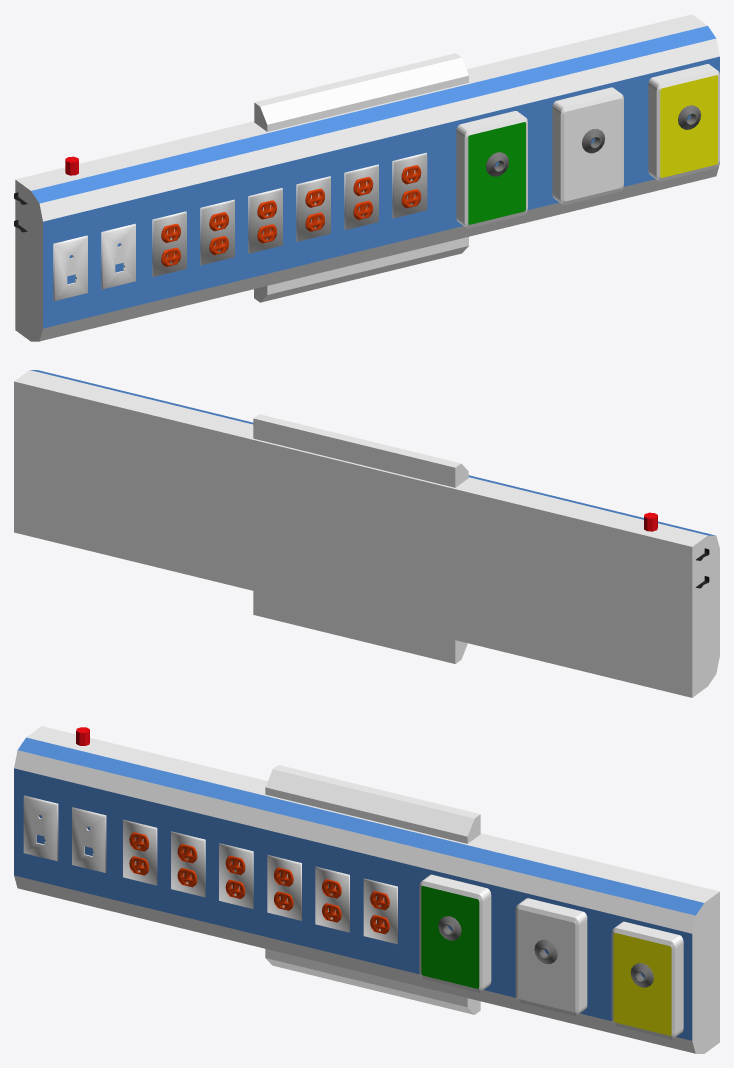
3 renders of one model, top to bottom at view 1: azimuth 30°, elevation 25°; view 2: azimuth 150°, elevation 25°; view 3: azimuth 330°, elevation 25°, orthographic.
Visible parts, largest first — view 1: PC-4; view 2: PC-4; view 3: PC-4.
Part boxes in pixels (x1,y1,x2,y2): PC-4: (14,14,719,341); PC-4: (14,370,719,697); PC-4: (14,726,719,1053).
Size of the model in its own units: 142 by 39 by 14.29.
